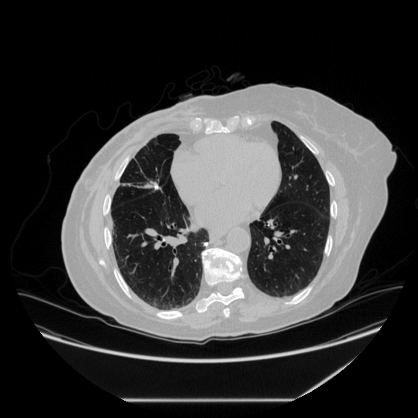nodule: (203, 242, 207, 246)
